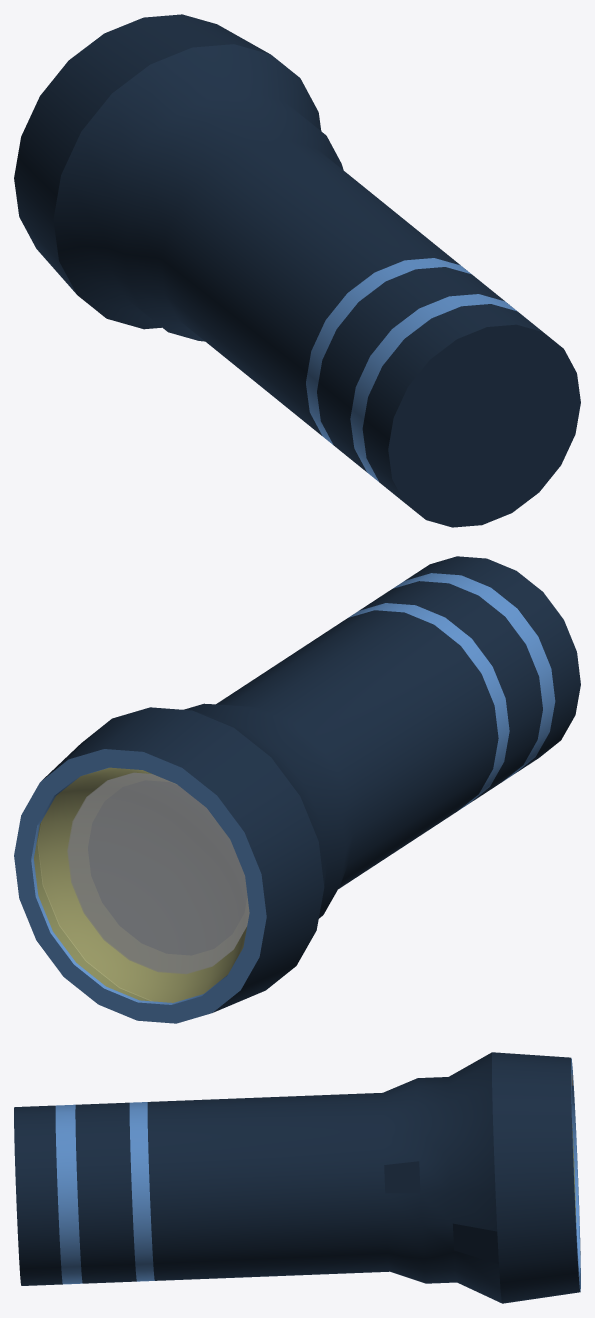
File: fener.fbx
3 renders of one model, top to bottom at view 1: azimuth 30°, elevation 25°; view 2: azimuth 150°, elevation 25°; view 3: azimuth 270°, elevation 25°, orthographic. The views are drawn at different scales.
Visible parts, largest first — view 1: pCylinder3; view 2: pCylinder3; view 3: pCylinder3.
Part boxes in pixels (<box>): pCylinder3: <box>14,14,580,527</box>; pCylinder3: <box>14,556,580,1023</box>; pCylinder3: <box>14,1052,580,1303</box>.
Bounding box in the file's own units: 0.9968 × 0.9959 × 2.23.
